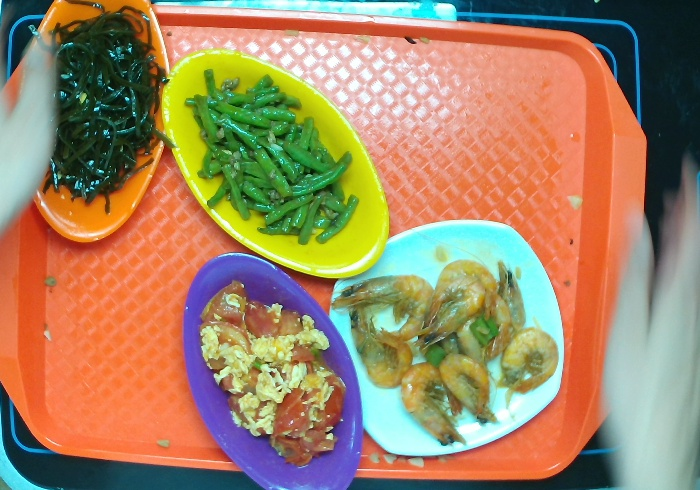RJxy-Fen_Hong_Tuo_Yuan: (184, 251, 362, 490)
RJxy-Huang_Se_Tuo_Yuan: (157, 47, 389, 281)
RJxy-Ju_Huang_Tuo_Yuan: (18, 3, 172, 250)
RJxy-Si_Fang_Die: (328, 215, 563, 464)
